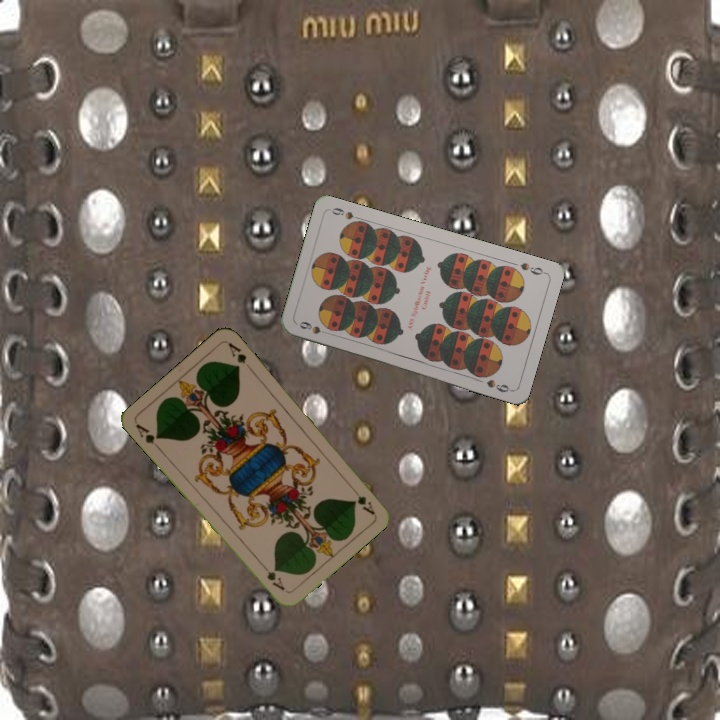GA: (131, 419, 163, 453), (347, 482, 377, 517)
S9: (295, 317, 334, 338), (516, 258, 548, 278)
